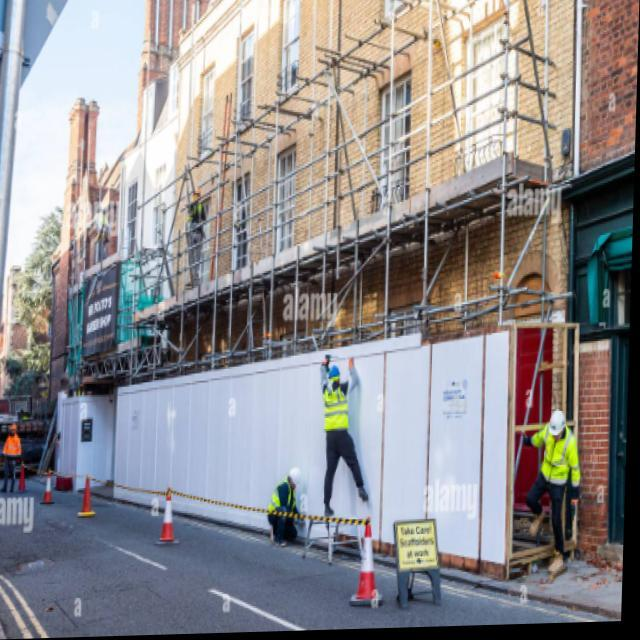boots: (528, 510, 566, 574), (323, 483, 369, 518), (269, 525, 289, 548), (0, 481, 15, 494), (187, 277, 200, 288)
helmet: (547, 408, 567, 443), (288, 466, 302, 490), (327, 364, 342, 386), (191, 189, 202, 201), (9, 424, 17, 437)
vest: (524, 421, 586, 501), (321, 385, 350, 433), (268, 477, 298, 518), (186, 202, 205, 234), (2, 432, 21, 460)
